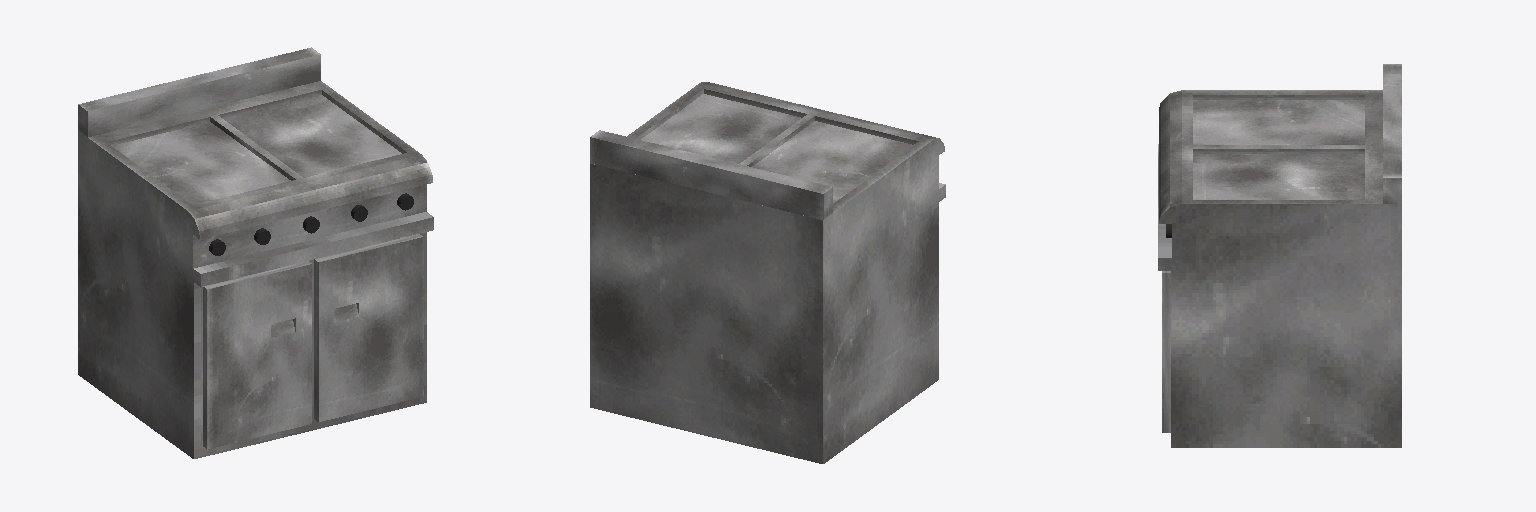
3 views of the same model, side by side, from view 1: azimuth 30°, elevation 25°; view 2: azimuth 150°, elevation 25°; view 3: azimuth 270°, elevation 25° (orthographic).
Visible parts, largest first — view 1: polySurface16 polySurface19, polySurface16 polySurface22, polySurface16 polySurface18, polySurface16 polySurface20; view 2: polySurface16 polySurface19, polySurface16 polySurface20; view 3: polySurface16 polySurface19, polySurface16 polySurface20, polySurface16 polySurface22.
Boxes of the visible parts, <box> form: polySurface16 polySurface19: <box>78,81,433,458</box>; polySurface16 polySurface22: <box>314,234,423,421</box>; polySurface16 polySurface18: <box>203,261,311,449</box>; polySurface16 polySurface20: <box>78,47,320,137</box>; polySurface16 polySurface19: <box>590,82,945,463</box>; polySurface16 polySurface20: <box>590,130,832,219</box>; polySurface16 polySurface19: <box>1158,90,1401,447</box>; polySurface16 polySurface20: <box>1383,64,1401,203</box>; polySurface16 polySurface22: <box>1162,271,1170,432</box>.
Size of the model in its own units: 1.1 by 1.22 by 1.
Materials: 2 (2 with a texture image).